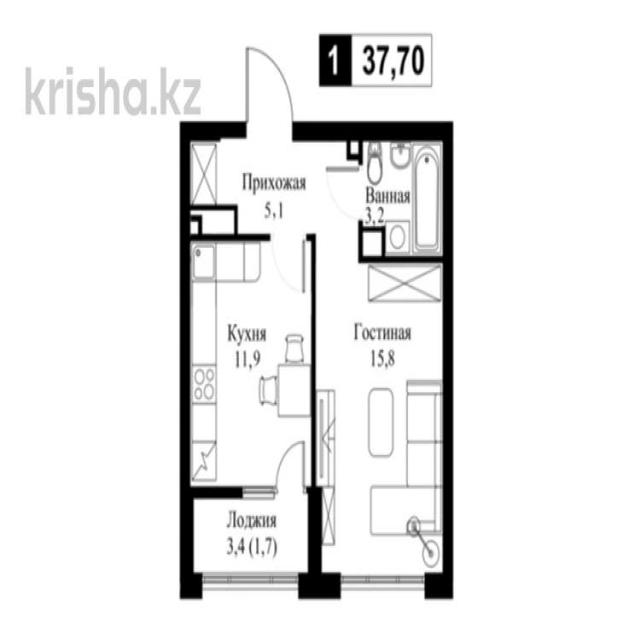balcony: (188, 488, 311, 584)
bathroom: (358, 134, 444, 259)
hallway: (184, 130, 352, 232)
kitchen: (188, 240, 312, 488)
living_room: (314, 254, 446, 580)
